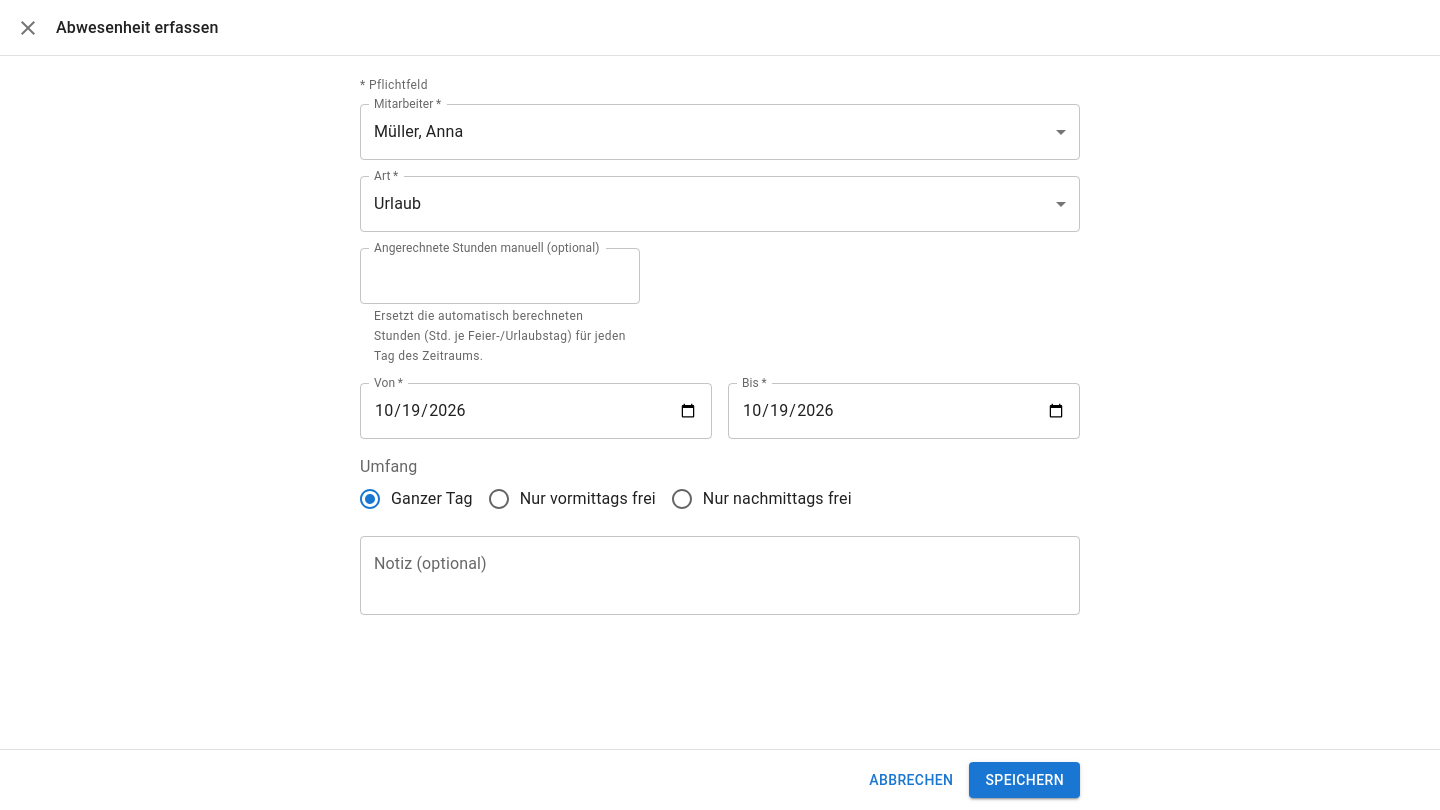
Scenario: AbsenceDialog › shows "Bis vor Von" on the Bis field and clears it once corrected
Type "2026-09-11" into the date field labelled "Von *".
click(536, 411); type("2026-09-11")  # box [360,383,712,439]
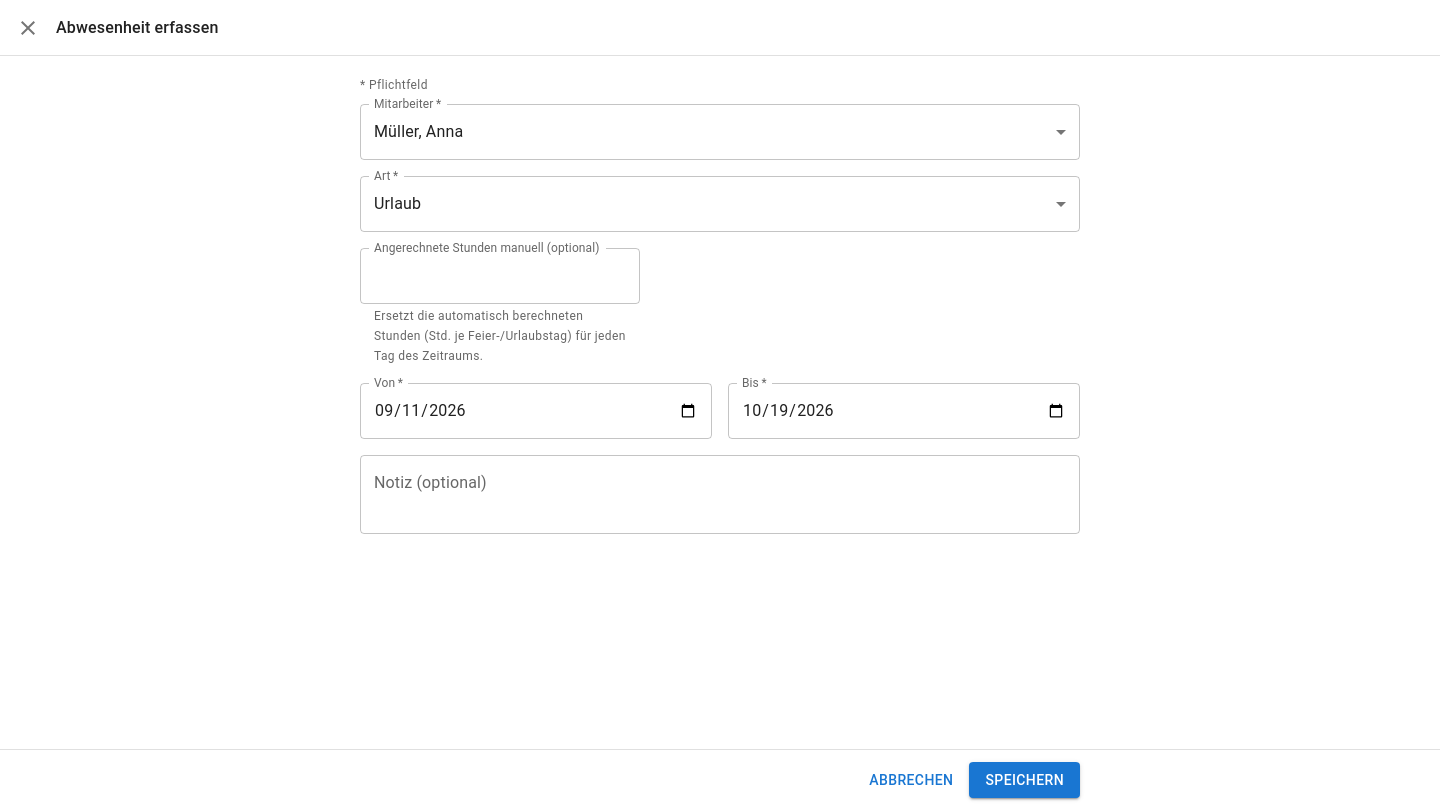
Type "2026-09-07" into the date field labelled "Bis *".
click(904, 411); type("2026-09-07")  # box [728,383,1080,439]
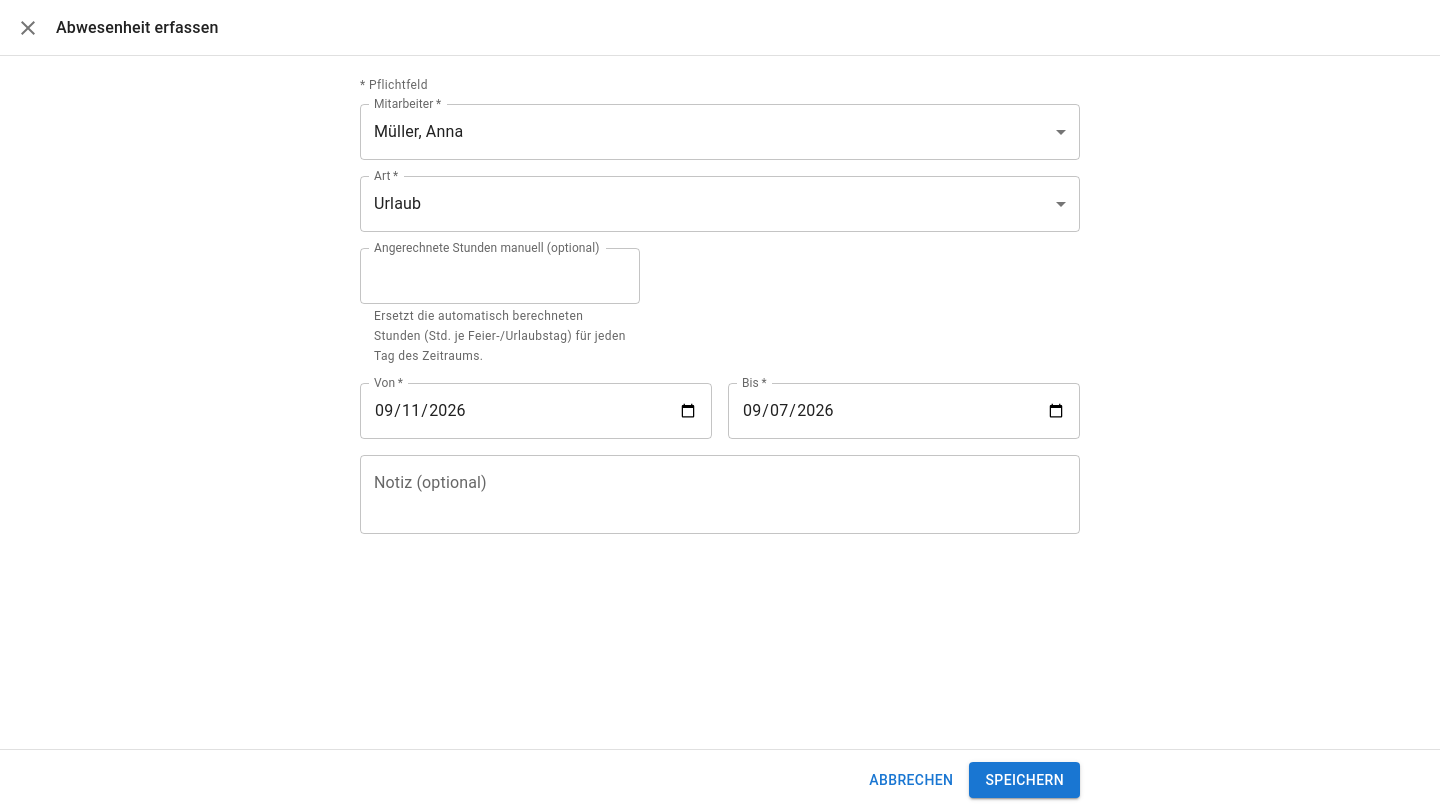
Click the button "Speichern".
click(1025, 780)  # box [969,762,1080,798]
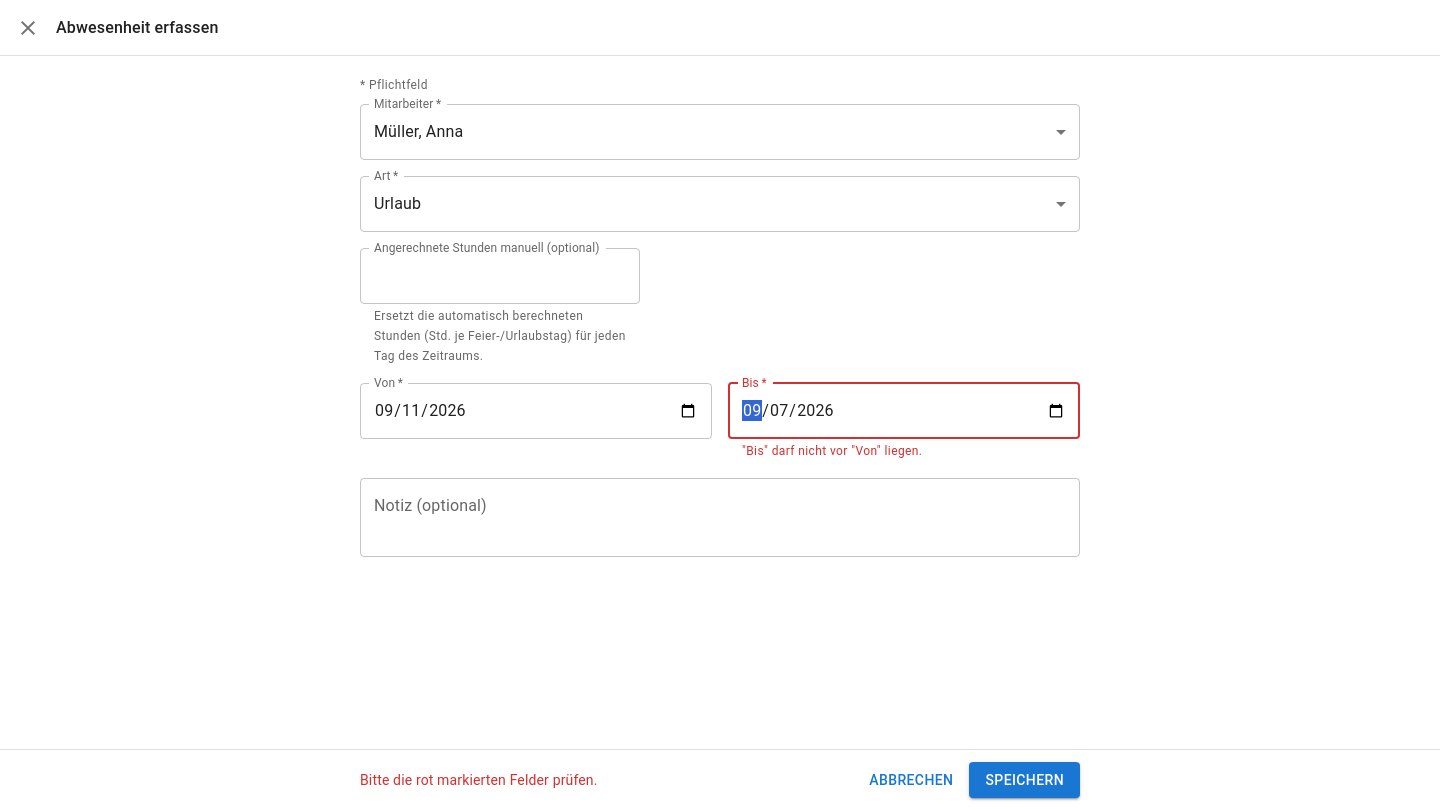
Result: the text "\"Bis\" darf nicht vor \"Von\" liegen." is shown at [742,444,922,458]
Type "2026-09-12" into the date field labelled "Bis *".
click(904, 411); type("2026-09-12")  # box [728,383,1080,439]
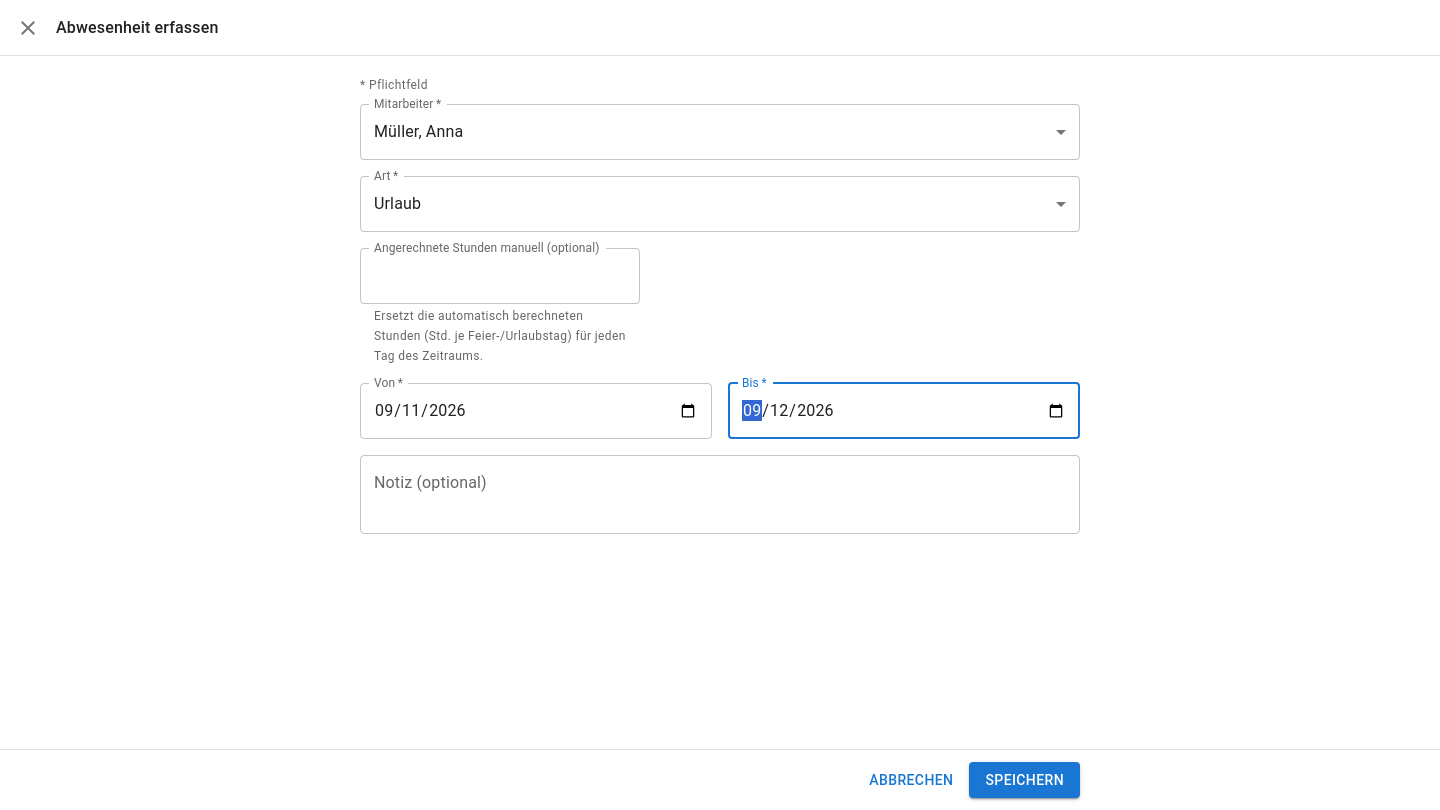
Result: the text "\"Bis\" darf nicht vor \"Von\" liegen." is gone
